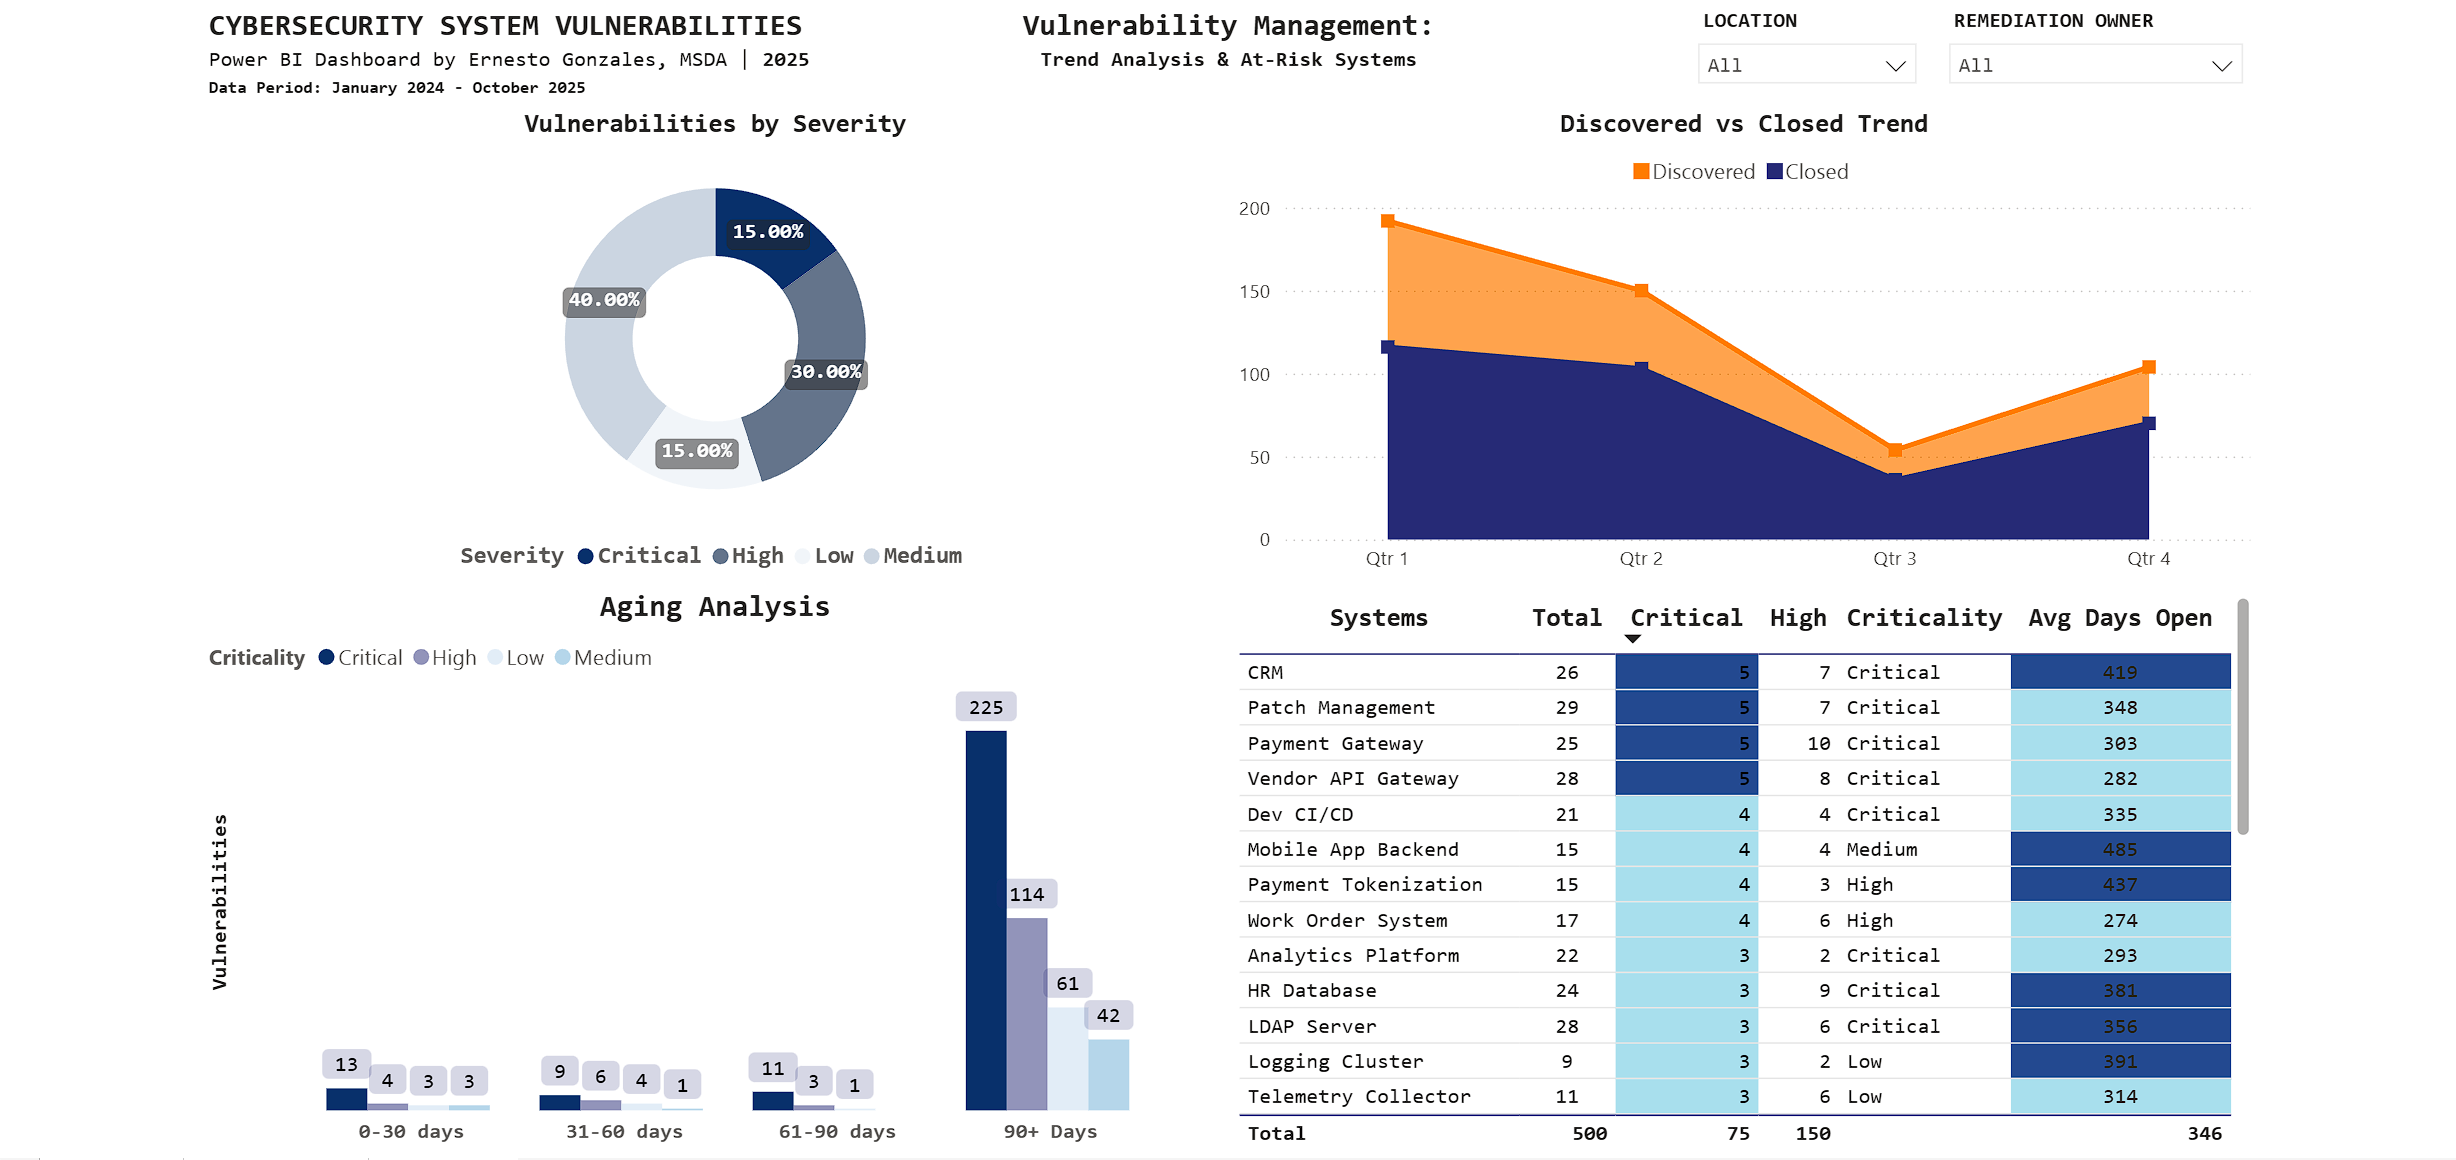

The page's visual inventory and layout, read from the dashboard file:
{"tool":"powerbi","page":{"name":"Vulnerability Management","canvas":[1280,720],"ordinal":1},"visuals":[{"type":"textbox","box":[0,0,457.3,67.4],"z":0},{"type":"tableEx","fields":{"Values":["Systems.System_Name","Vulnerabilities.Vulnerability_ID","Vulnerabilities.Critical Vulnerabilities","Vulnerabilities.High Vulnerabilities","Systems.Criticality","Vulnerabilities.Avg Days Open"]},"box":[640.1,366.2,640.1,353.8],"z":1000},{"type":"slicer","fields":{"Values":["Vulnerabilities.Remediation_Owner"]},"box":[1077.5,0,202.8,56.2],"z":2000,"group":"g1"},{"type":"donutChart","title":"Vulnerabilities by Severity","fields":{"Y":["CountNonNull(Vulnerabilities.Vulnerability_ID)"],"Series":["Vulnerabilities.Severity"]},"box":[0,67.4,640.1,298.9],"z":2000},{"type":"group","id":"g1","title":"Group 2","box":[921.5,0,358.8,56.2],"z":3000},{"type":"slicer","fields":{"Values":["Systems.Location"]},"box":[921.5,0,156,56.2],"z":3000,"group":"g1"},{"type":"textbox","box":[411.6,0,456.7,67.4],"z":4000},{"type":"areaChart","title":"Discovered vs Closed Trend","fields":{"Category":["Vulnerabilities.Date_Discovered.Variation.Date Hierarchy.Quarter"],"Y":["Compliance.Discovered","Compliance.Closed"]},"box":[640.1,67.4,640.1,298.9],"z":5000},{"type":"clusteredColumnChart","title":"Aging Analysis","fields":{"Category":["Vulnerabilities.Age Bucket"],"Y":["CountNonNull(Vulnerabilities.Vulnerability_ID)"],"Series":["Systems.Criticality"]},"box":[0,366.2,640.1,353.8],"z":6000}]}

Visuals, with their boxes on the page's 1280x720 design canvas (x1, y1, x2, y2). These are canvas units, not pixel positions in the 2456x1160 screenshot, which may show the page scaled, cropped or inside an application window:
textbox: <box>0,0,457,67</box>
tableEx - Systems.System_Name x Vulnerabilities.Vulnerability_ID: <box>640,366,1280,720</box>
slicer - Vulnerabilities.Remediation_Owner: <box>1078,0,1280,56</box>
"Vulnerabilities by Severity" donutChart: <box>0,67,640,366</box>
"Group 2" group: <box>922,0,1280,56</box>
slicer - Systems.Location: <box>922,0,1078,56</box>
textbox: <box>412,0,868,67</box>
"Discovered vs Closed Trend" areaChart: <box>640,67,1280,366</box>
"Aging Analysis" clusteredColumnChart: <box>0,366,640,720</box>
